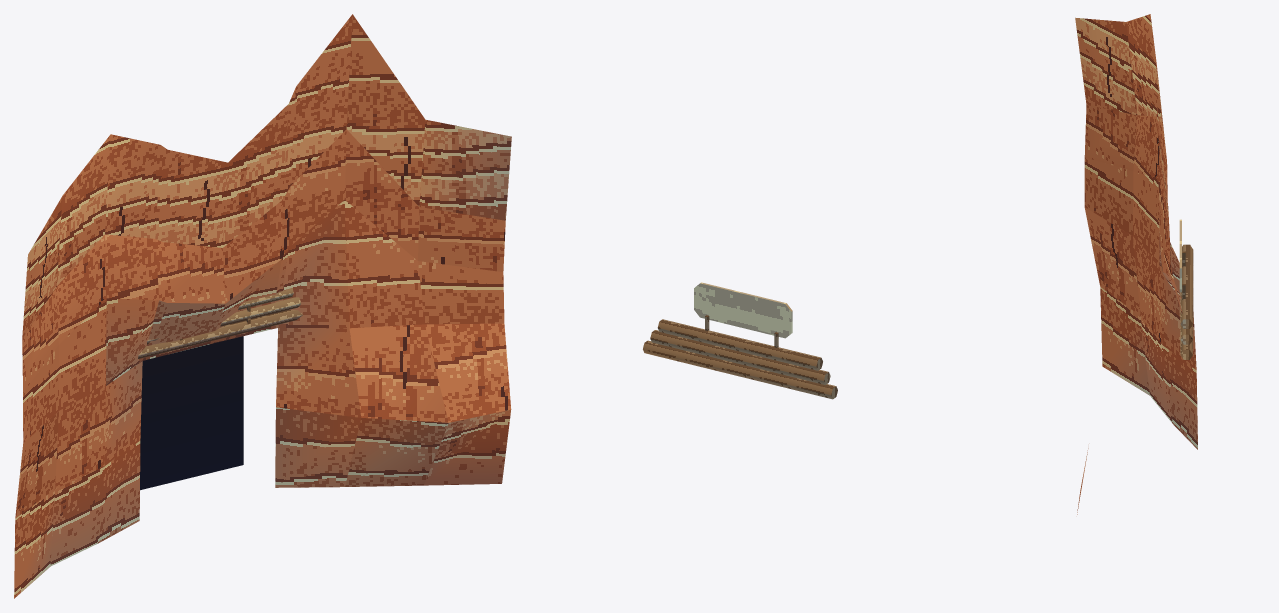
The model's file is wmine.portal.glb.
The picture shows the model from 3 angles, left to right: view 1: azimuth 30°, elevation 25°; view 2: azimuth 150°, elevation 25°; view 3: azimuth 270°, elevation 25°; orthographic projection. The views are drawn at different scales.
Parts seen in each view (by area): view 1: kit_shell_face, kit_card_depth, kit_lagging; view 2: kit_lagging, kit_trim; view 3: kit_shell_face, kit_lagging.
Boxes of the visible parts, x1,y1,x2,y2 form: kit_shell_face: [14, 14, 511, 598]; kit_card_depth: [140, 336, 243, 490]; kit_lagging: [138, 288, 302, 358]; kit_lagging: [643, 319, 837, 399]; kit_trim: [694, 282, 792, 338]; kit_shell_face: [1075, 14, 1197, 514]; kit_lagging: [1180, 244, 1193, 359].
Size of the model in its own units: 10 by 9.5 by 3.45.
Materials: 7 (7 with a texture image).
